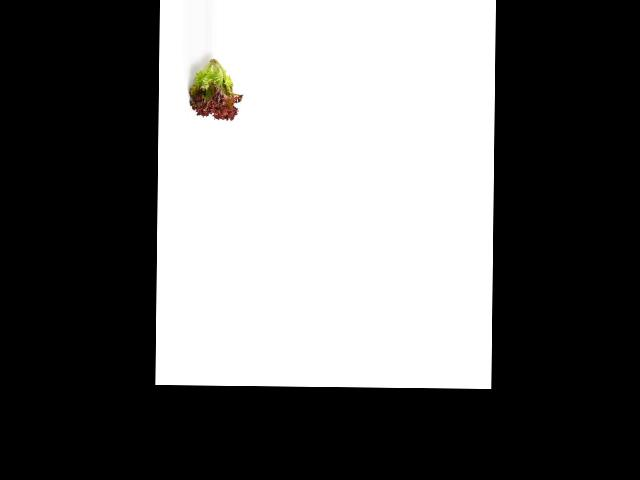lettuce: (187, 50, 241, 123)
